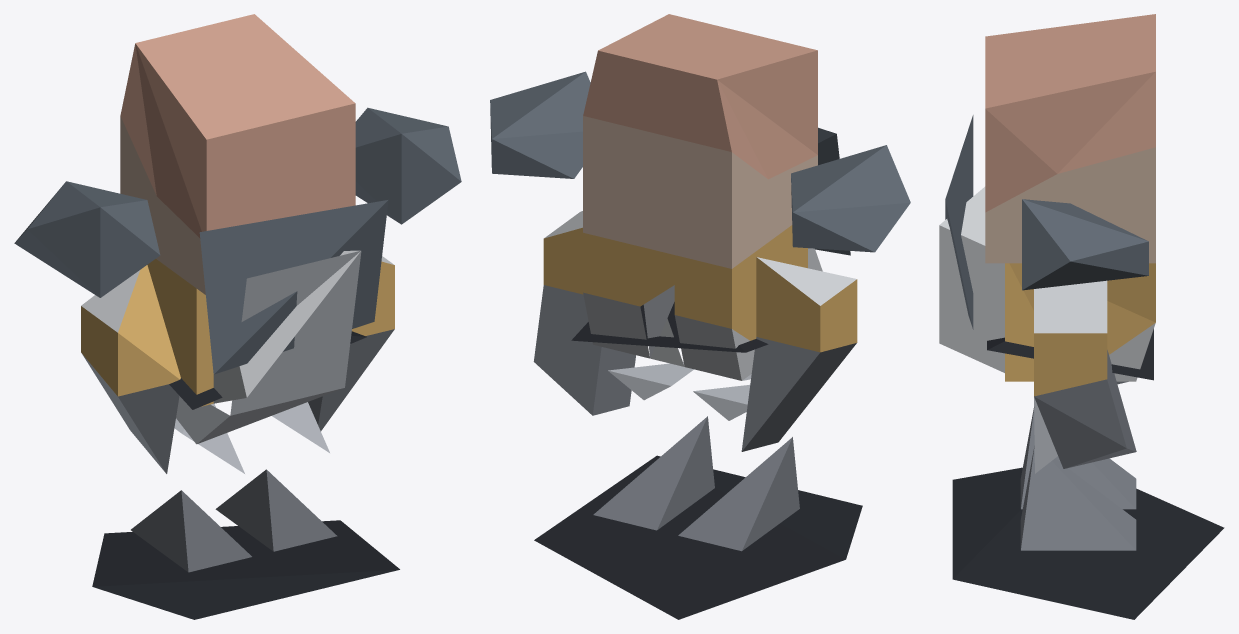
File: armour-heavy.lod.glb
3 views of the same model, side by side, from view 1: azimuth 30°, elevation 25°; view 2: azimuth 150°, elevation 25°; view 3: azimuth 270°, elevation 25° (orthographic).
Parts seen in each view (by area): view 1: armour-heavy; view 2: armour-heavy; view 3: armour-heavy.
Boxes of the visible parts, x1,y1,x2,y2 form: armour-heavy: [14, 14, 461, 619]; armour-heavy: [490, 14, 910, 619]; armour-heavy: [939, 14, 1224, 619].
Bounding box in the file's own units: 0.8673 × 1.02 × 0.5131.
